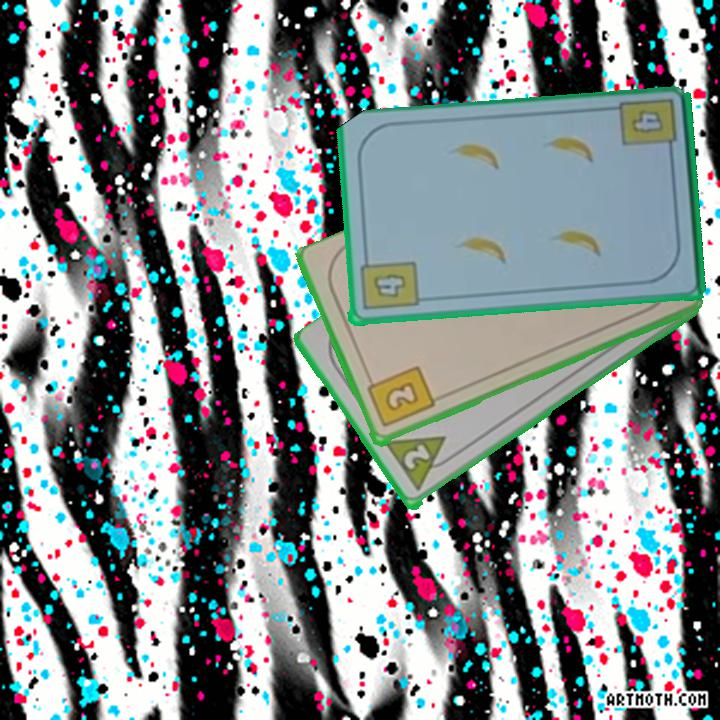2b: (363, 362, 437, 431)
2p: (382, 432, 460, 495)
4b: (616, 95, 680, 161), (356, 251, 420, 313)
